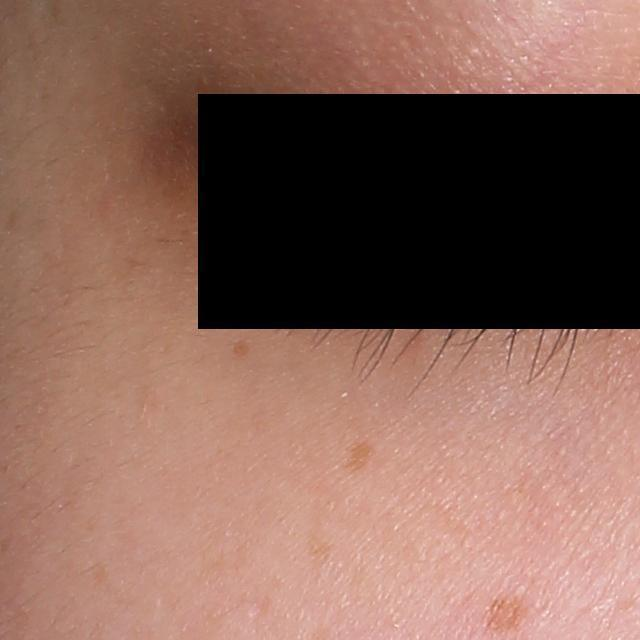melasma: (483, 593, 534, 637), (341, 434, 377, 473), (231, 337, 252, 360)
